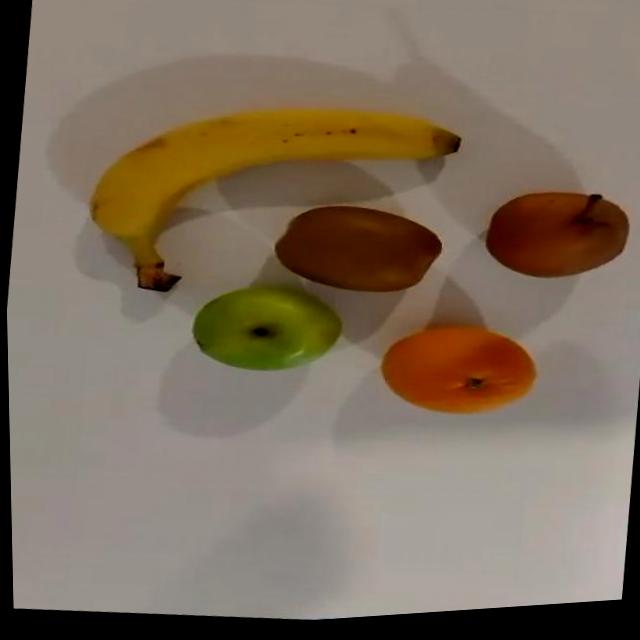Apple: (185, 275, 346, 386)
Banana: (78, 79, 467, 326)
Orange: (374, 318, 541, 432)
